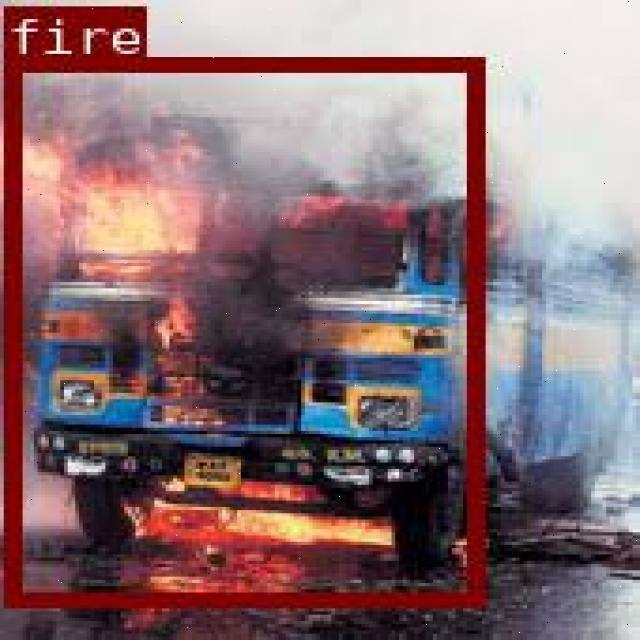fire: (3, 57, 481, 605)
